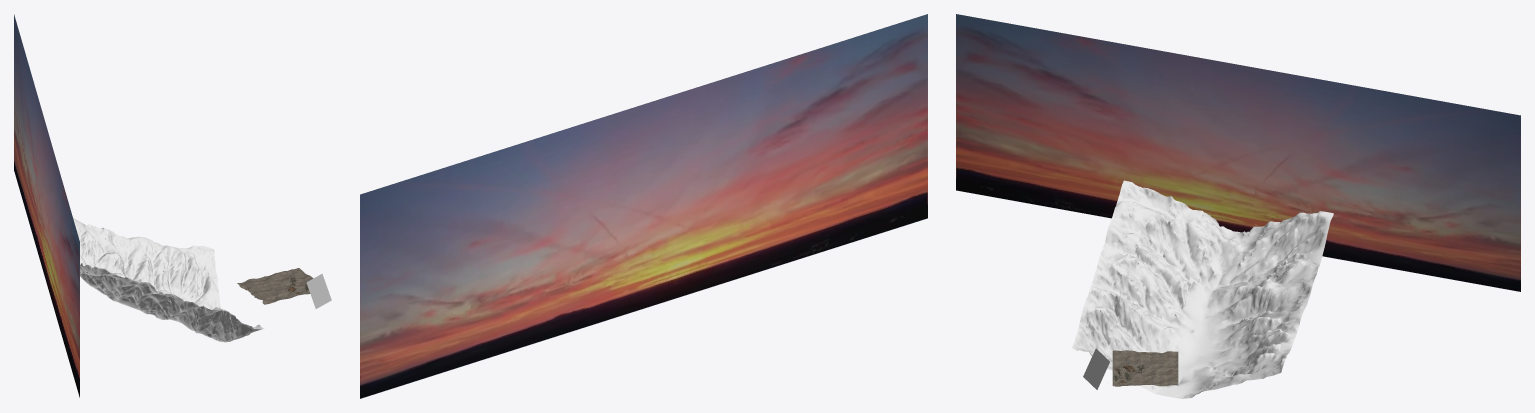
The model's file is world.glb.
3 renders of one model, left to right at view 1: azimuth 30°, elevation 25°; view 2: azimuth 150°, elevation 25°; view 3: azimuth 270°, elevation 25°, orthographic. The views are drawn at different scales.
Visible parts, largest first — view 1: Rocky Mountain Ridge Terrain, StockSnap_NDWYCWB1CS, Desert Procedural.001, Plane; view 2: StockSnap_NDWYCWB1CS; view 3: StockSnap_NDWYCWB1CS, Rocky Mountain Ridge Terrain, Desert Procedural.001, Plane.
Boxes of the visible parts, x1,y1,x2,y2 form: Rocky Mountain Ridge Terrain: [73, 217, 263, 342]; StockSnap_NDWYCWB1CS: [14, 14, 79, 397]; Desert Procedural.001: [237, 268, 313, 304]; Plane: [306, 273, 331, 308]; StockSnap_NDWYCWB1CS: [360, 14, 927, 398]; StockSnap_NDWYCWB1CS: [956, 14, 1520, 291]; Rocky Mountain Ridge Terrain: [1072, 180, 1333, 398]; Desert Procedural.001: [1112, 350, 1178, 386]; Plane: [1083, 348, 1109, 389].
Size of the model in its own units: 915 by 615 by 1252.
Materials: 18 (15 with a texture image).
